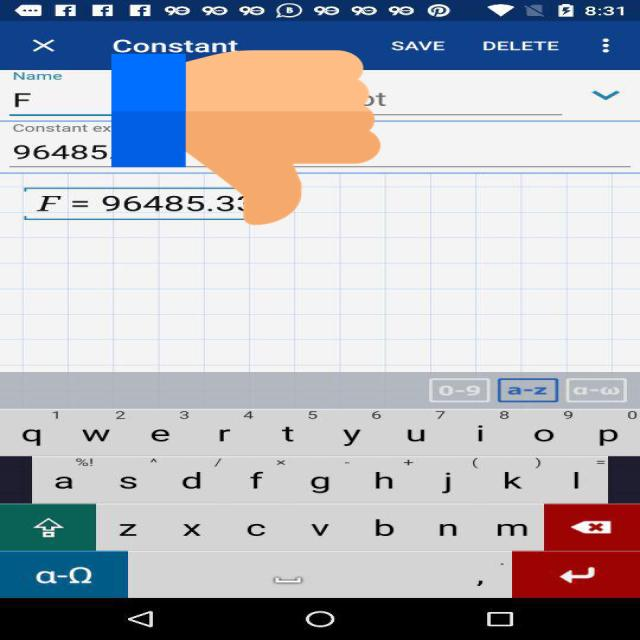obstruction: (112, 46, 380, 229)
